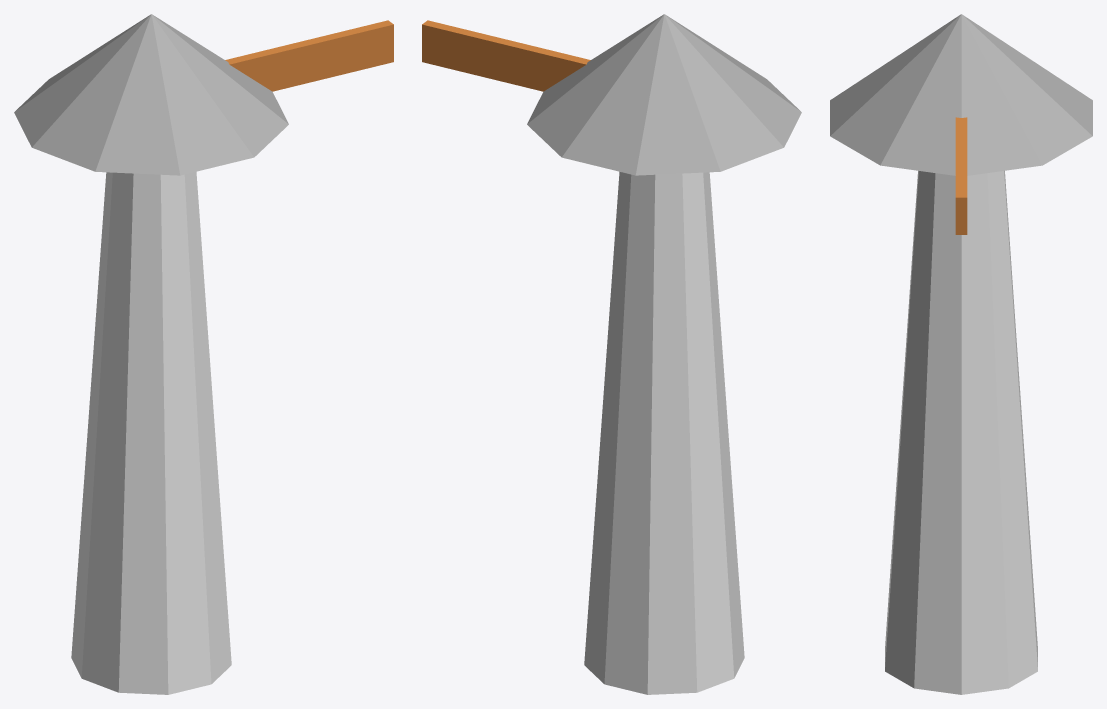
File: kincir.glb
3 renders of one model, left to right at view 1: azimuth 30°, elevation 25°; view 2: azimuth 150°, elevation 25°; view 3: azimuth 270°, elevation 25°, orthographic.
Bounding box in the file's own units: 1.8 × 3.1 × 1.14.
